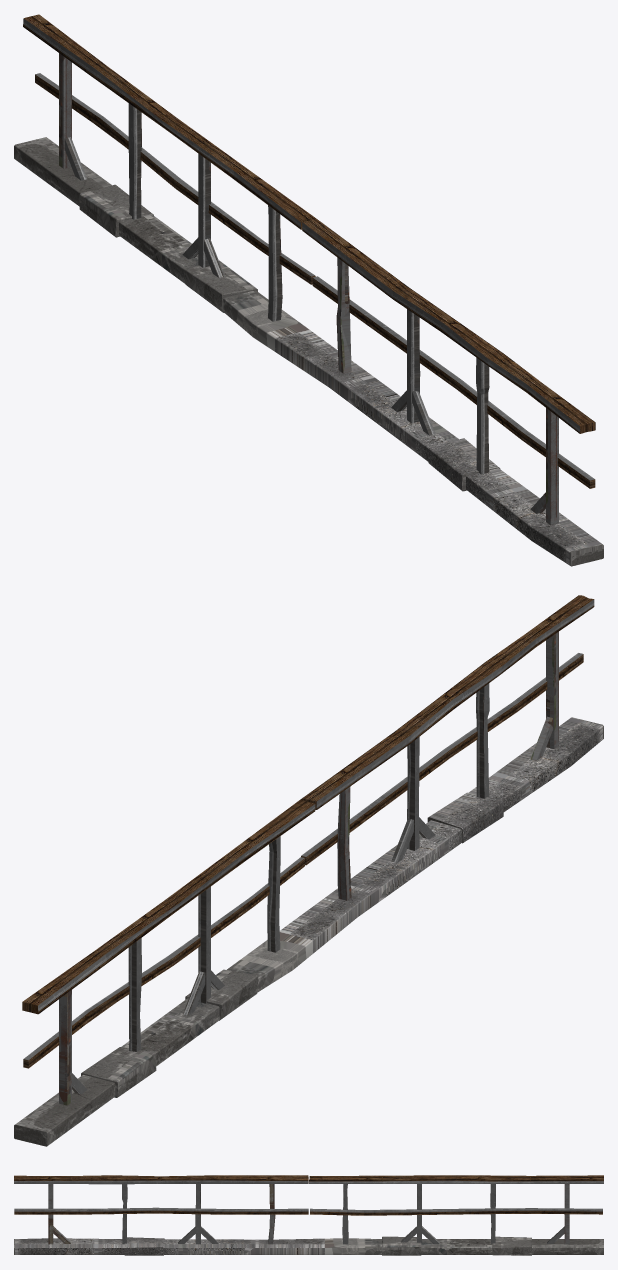
The model's file is MC_Battlements_Wall_F_8m.fbx.
The picture shows the model from 3 angles, top to bottom: view 1: azimuth 30°, elevation 25°; view 2: azimuth 150°, elevation 25°; view 3: azimuth 270°, elevation 25°; orthographic projection. The views are drawn at different scales.
Parts seen in each view (by area): view 1: MC_Battlements_Wall_F_8m_LOD0; view 2: MC_Battlements_Wall_F_8m_LOD0; view 3: MC_Battlements_Wall_F_8m_LOD0.
Boxes of the visible parts, x1,y1,x2,y2 form: MC_Battlements_Wall_F_8m_LOD0: (14,14,603,566); MC_Battlements_Wall_F_8m_LOD0: (14,595,603,1146); MC_Battlements_Wall_F_8m_LOD0: (14,1175,603,1255).
Size of what is drawn, in the model's own units: 33.06 by 111 by 800.
